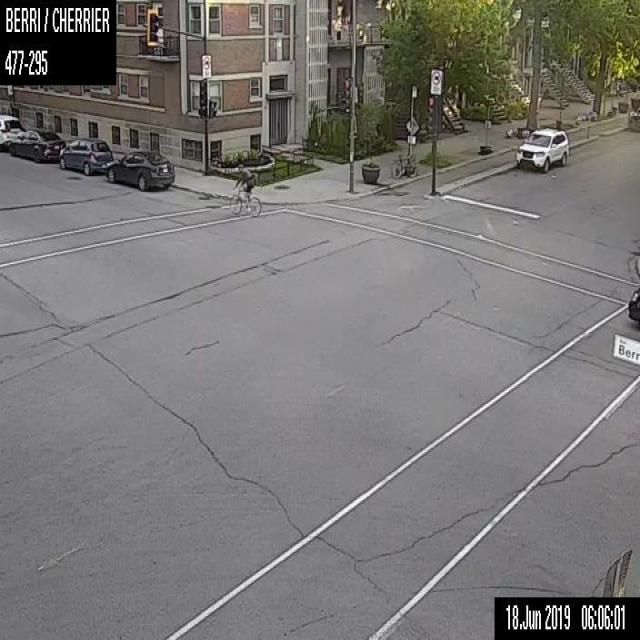cyclist: (228, 163, 263, 216)
vehicle: (105, 150, 175, 190), (515, 128, 568, 170), (9, 128, 65, 162), (59, 138, 113, 172), (0, 113, 23, 151), (628, 287, 639, 321)
